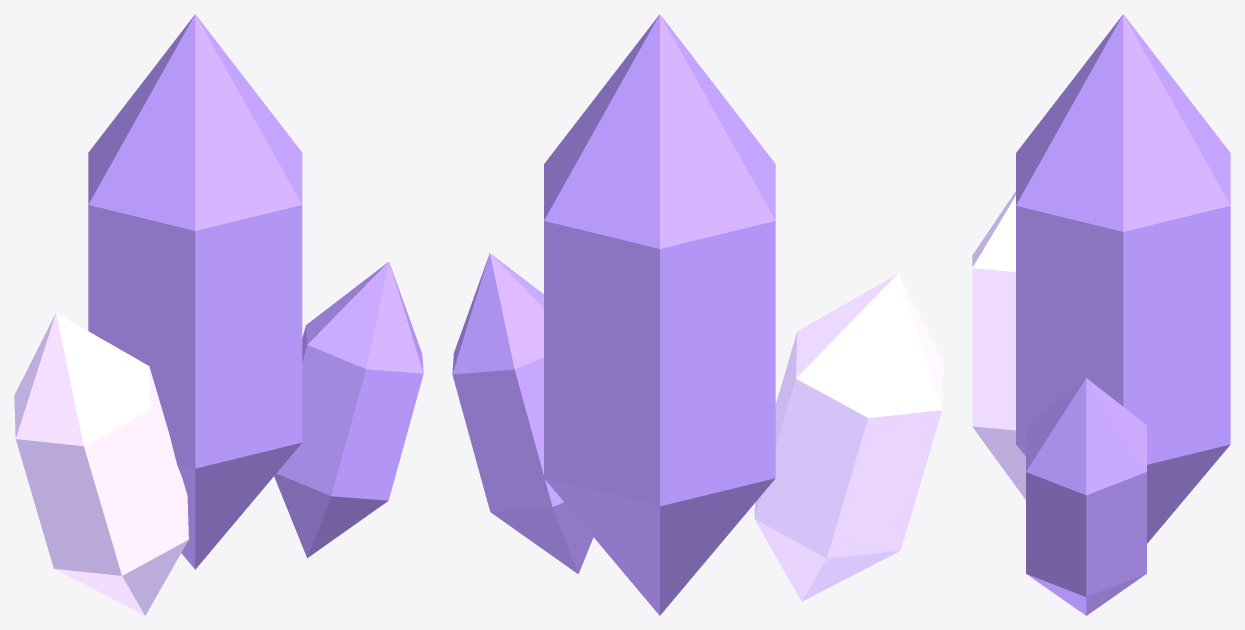
Rendered from crystal.glb.
3 renders of one model, left to right at view 1: azimuth 30°, elevation 25°; view 2: azimuth 150°, elevation 25°; view 3: azimuth 270°, elevation 25°, orthographic. The views are drawn at different scales.
Parts seen in each view (by area): view 1: Crystal, Crystal.001, Crystal.002; view 2: Crystal, Crystal.001, Crystal.002; view 3: Crystal, Crystal.002, Crystal.001.
Part boxes in pixels (left/top/right/bottom): Crystal: left=88, top=14, right=302, bottom=569; Crystal.001: left=14, top=313, right=188, bottom=615; Crystal.002: left=274, top=262, right=423, bottom=558; Crystal: left=544, top=14, right=775, bottom=615; Crystal.001: left=754, top=273, right=943, bottom=601; Crystal.002: left=452, top=253, right=593, bottom=574; Crystal: left=1016, top=14, right=1230, bottom=543; Crystal.002: left=1026, top=378, right=1146, bottom=615; Crystal.001: left=972, top=191, right=1025, bottom=499.
Size of the model in its own units: 1.35 by 1.67 by 0.7001.
